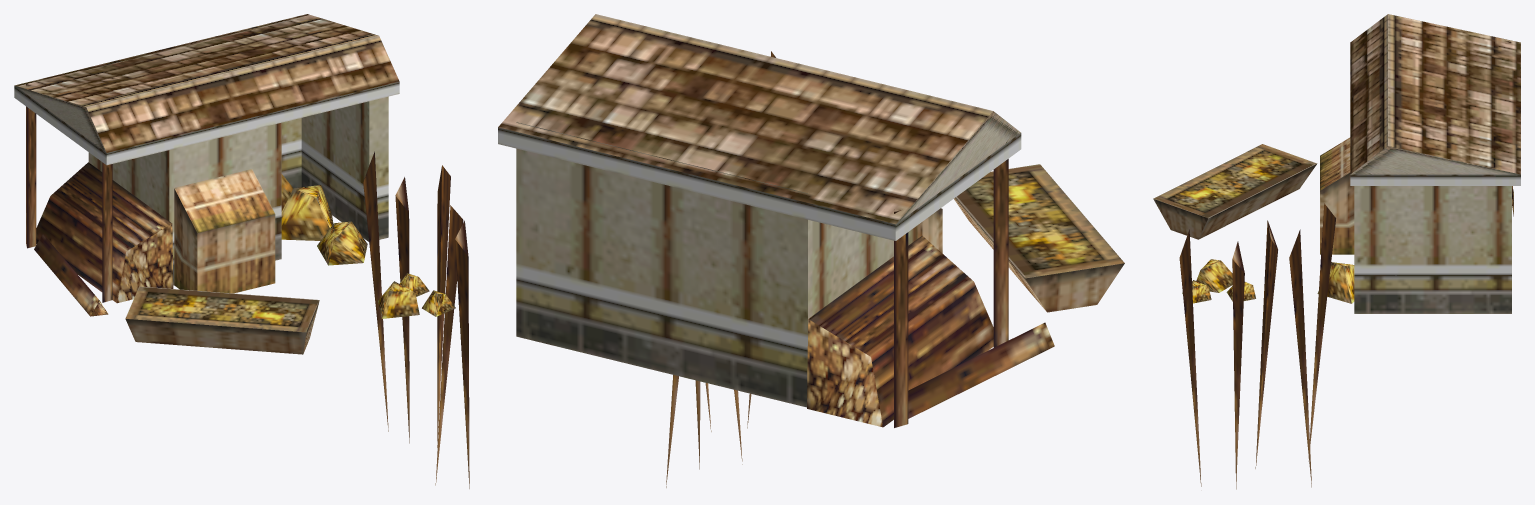
File: storehouse_base.glb
The picture shows the model from 3 angles, left to right: view 1: azimuth 30°, elevation 25°; view 2: azimuth 150°, elevation 25°; view 3: azimuth 270°, elevation 25°; orthographic projection. The views are drawn at different scales.
Parts seen in each view (by area): view 1: MeshRoot; view 2: MeshRoot; view 3: MeshRoot.
Boxes of the visible parts, x1,y1,x2,y2 form: MeshRoot: (14,14,469,488); MeshRoot: (498,14,1124,487); MeshRoot: (1153,14,1520,489).
Size of the model in its own units: 4.38 by 4.89 by 4.57.
Materials: 2 (2 with a texture image).
